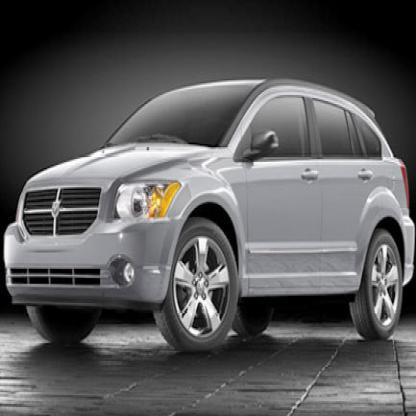car: (5, 83, 413, 364)
